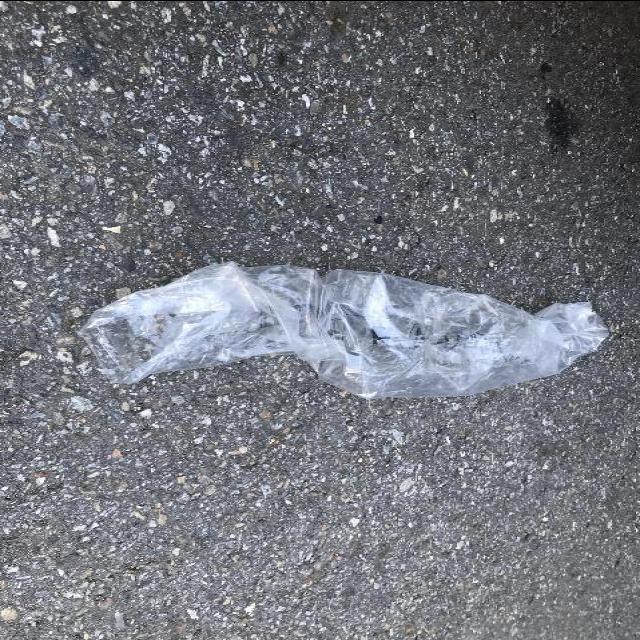plastic bag: (75, 258, 614, 402)
